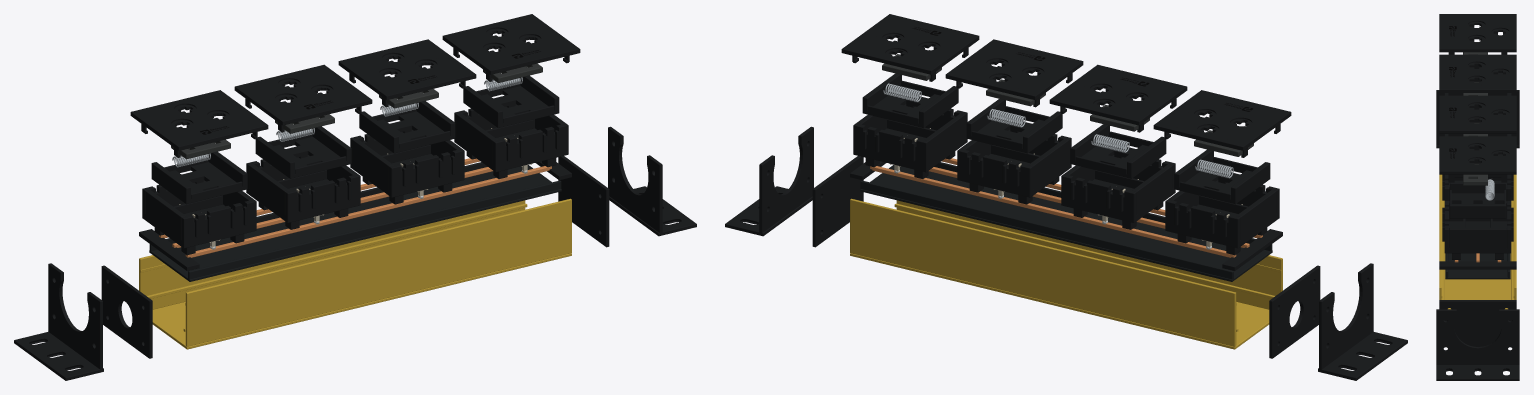
File: powerconnex_exploded.glb
3 renders of one model, left to right at view 1: azimuth 30°, elevation 25°; view 2: azimuth 150°, elevation 25°; view 3: azimuth 270°, elevation 25°, orthographic. The views are drawn at different scales.
Parts seen in each view (by area): view 1: Aluminum_Alloy_Housing, PVC_Insulation_Liner, Outlet_01_Molded_Outlet_Body, Outlet_03_Molded_Outlet_Body, Outlet_02_Molded_Outlet_Body, Outlet_04_Molded_Outlet_Body, Outlet_02_Faceplate, Outlet_03_Faceplate, Outlet_01_Faceplate, Outlet_04_Faceplate, Mounting_Bracket_Left, Mounting_Bracket_Right (+9 smaller); view 2: Aluminum_Alloy_Housing, PVC_Insulation_Liner, Outlet_01_Molded_Outlet_Body, Outlet_03_Molded_Outlet_Body, Outlet_02_Molded_Outlet_Body, Outlet_04_Molded_Outlet_Body, Outlet_03_Faceplate, Outlet_01_Faceplate, Outlet_04_Faceplate, Outlet_02_Faceplate, Mounting_Bracket_Left, Mounting_Bracket_Right (+9 smaller); view 3: Mounting_Bracket_Right, Outlet_04_Faceplate, Outlet_03_Faceplate, Outlet_02_Faceplate, Outlet_01_Faceplate, Outlet_04_Molded_Outlet_Body, Aluminum_Alloy_Housing, End_Plate_Right, Outlet_04_Shutter_Carrier, PVC_Insulation_Liner, Top_End_Cover_Right, Outlet_03_Molded_Outlet_Body (+6 smaller).
Part boxes in pixels (x1,y1,x2,y2): Aluminum_Alloy_Housing: (139, 198, 571, 349); PVC_Insulation_Liner: (149, 165, 561, 281); Outlet_01_Molded_Outlet_Body: (142, 180, 256, 255); Outlet_03_Molded_Outlet_Body: (350, 129, 464, 204); Outlet_02_Molded_Outlet_Body: (246, 155, 360, 229); Outlet_04_Molded_Outlet_Body: (454, 104, 568, 178); Outlet_02_Faceplate: (234, 64, 372, 132); Outlet_03_Faceplate: (338, 39, 476, 107); Outlet_01_Faceplate: (130, 90, 268, 157); Outlet_04_Faceplate: (442, 14, 580, 81); Mounting_Bracket_Left: (14, 263, 103, 380); Mounting_Bracket_Right: (608, 126, 696, 236); Aluminum_Alloy_Housing: (850, 198, 1282, 349); PVC_Insulation_Liner: (860, 165, 1272, 281); Outlet_01_Molded_Outlet_Body: (1165, 180, 1279, 255); Outlet_03_Molded_Outlet_Body: (957, 129, 1071, 204); Outlet_02_Molded_Outlet_Body: (1061, 155, 1175, 229); Outlet_04_Molded_Outlet_Body: (853, 104, 967, 178); Outlet_03_Faceplate: (945, 39, 1083, 107); Outlet_01_Faceplate: (1153, 90, 1291, 157); Outlet_04_Faceplate: (841, 14, 979, 81); Outlet_02_Faceplate: (1049, 64, 1187, 132); Mounting_Bracket_Left: (1318, 263, 1407, 380); Mounting_Bracket_Right: (725, 126, 813, 236); Mounting_Bracket_Right: (1436, 309, 1519, 380); Outlet_04_Faceplate: (1439, 136, 1516, 182); Outlet_03_Faceplate: (1439, 95, 1516, 136); Outlet_02_Faceplate: (1439, 54, 1516, 95); Outlet_01_Faceplate: (1439, 14, 1516, 54); Outlet_04_Molded_Outlet_Body: (1442, 201, 1513, 259); Aluminum_Alloy_Housing: (1439, 174, 1516, 309); End_Plate_Right: (1439, 300, 1516, 346); Outlet_04_Shutter_Carrier: (1450, 182, 1505, 218); PVC_Insulation_Liner: (1445, 253, 1510, 279); Top_End_Cover_Right: (1439, 261, 1516, 269); Outlet_03_Molded_Outlet_Body: (1442, 163, 1513, 200).
Size of the model in its own units: 0.492 by 0.1525 by 0.07.
10 materials, 1 textured.
